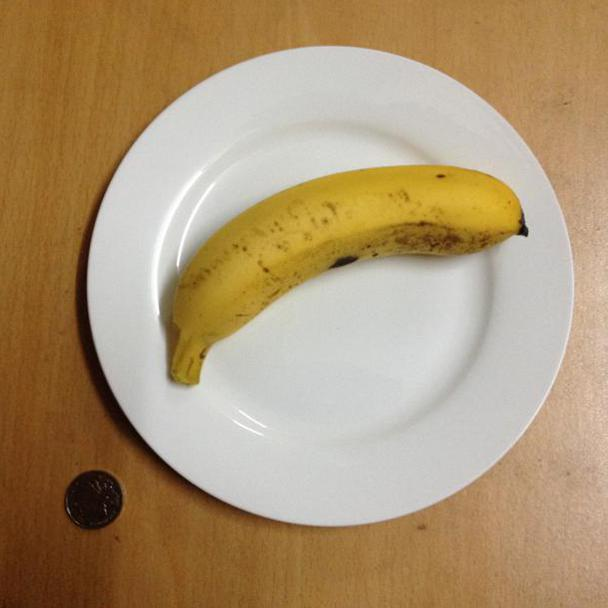banana: (158, 156, 538, 394)
